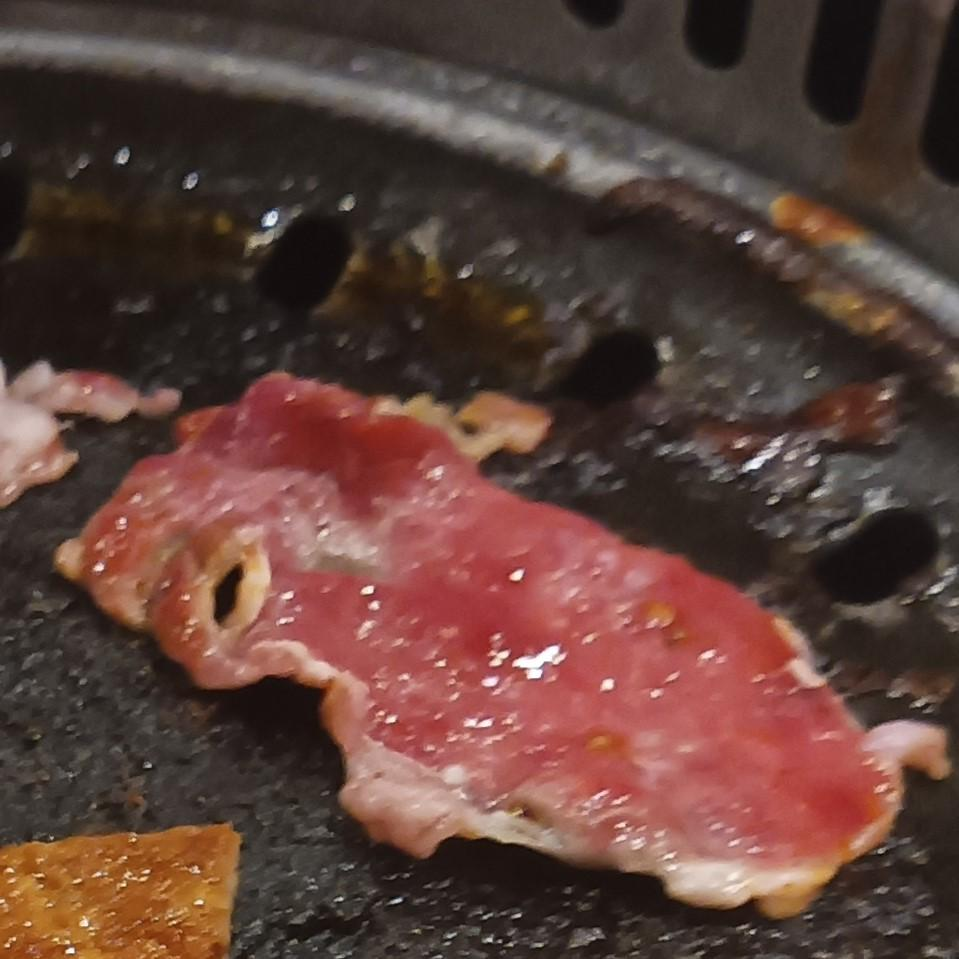Undercooked: (55, 373, 950, 918)
Well-Cooked: (0, 824, 241, 958)
